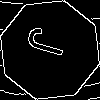J: (25, 25, 77, 62)
